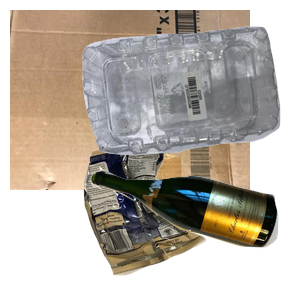cardboard: (10, 10, 250, 190)
glass: (88, 167, 300, 300)
plastic: (80, 24, 300, 172)
trash: (81, 137, 280, 300)
